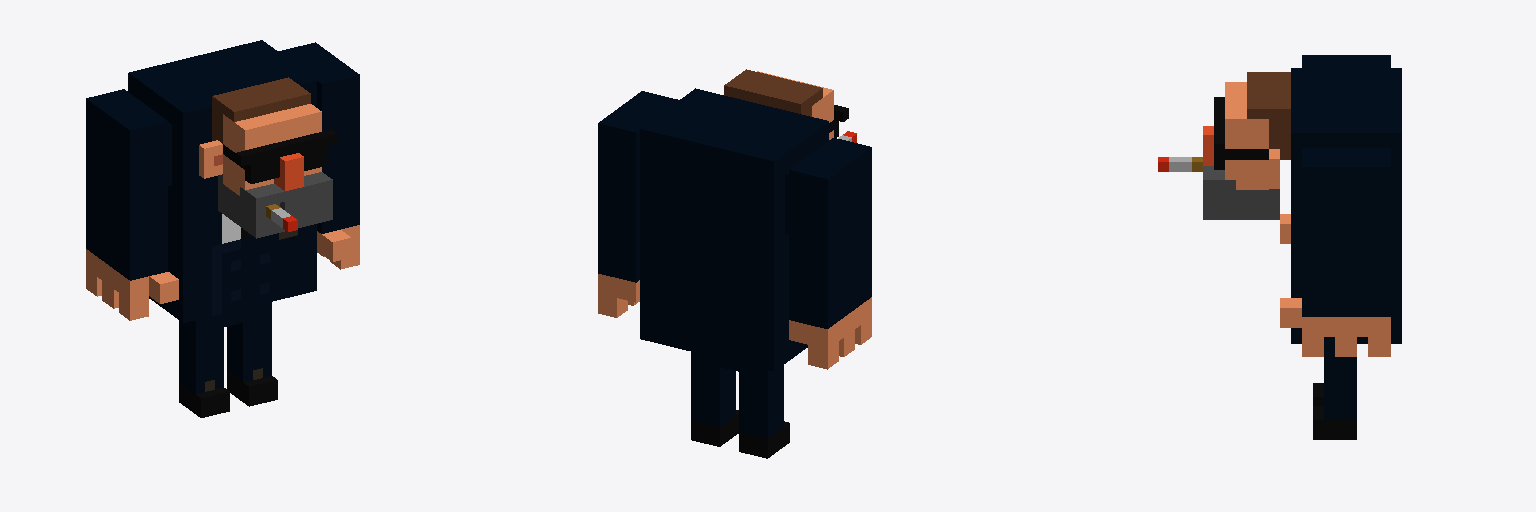
3 views of the same model, side by side, from view 1: azimuth 30°, elevation 25°; view 2: azimuth 150°, elevation 25°; view 3: azimuth 270°, elevation 25° (orthographic).
Size of the model in its own units: 24 by 33 by 22.
1 materials, 1 textured.